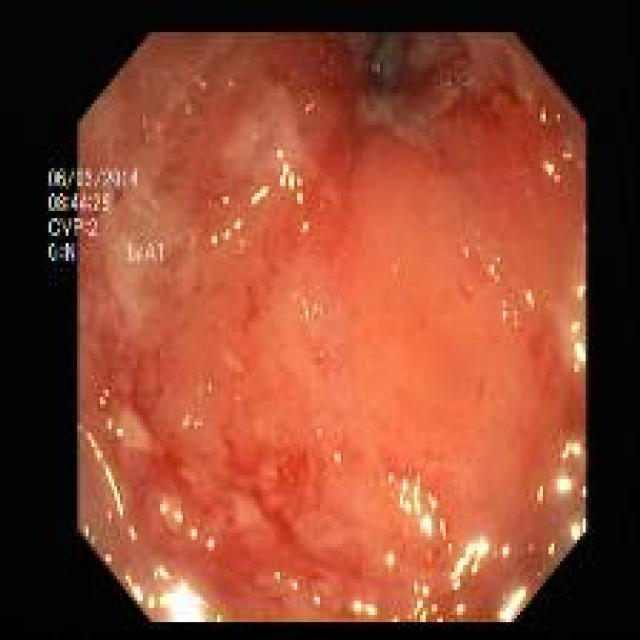ulcerative-colitis: (79, 33, 586, 623)
